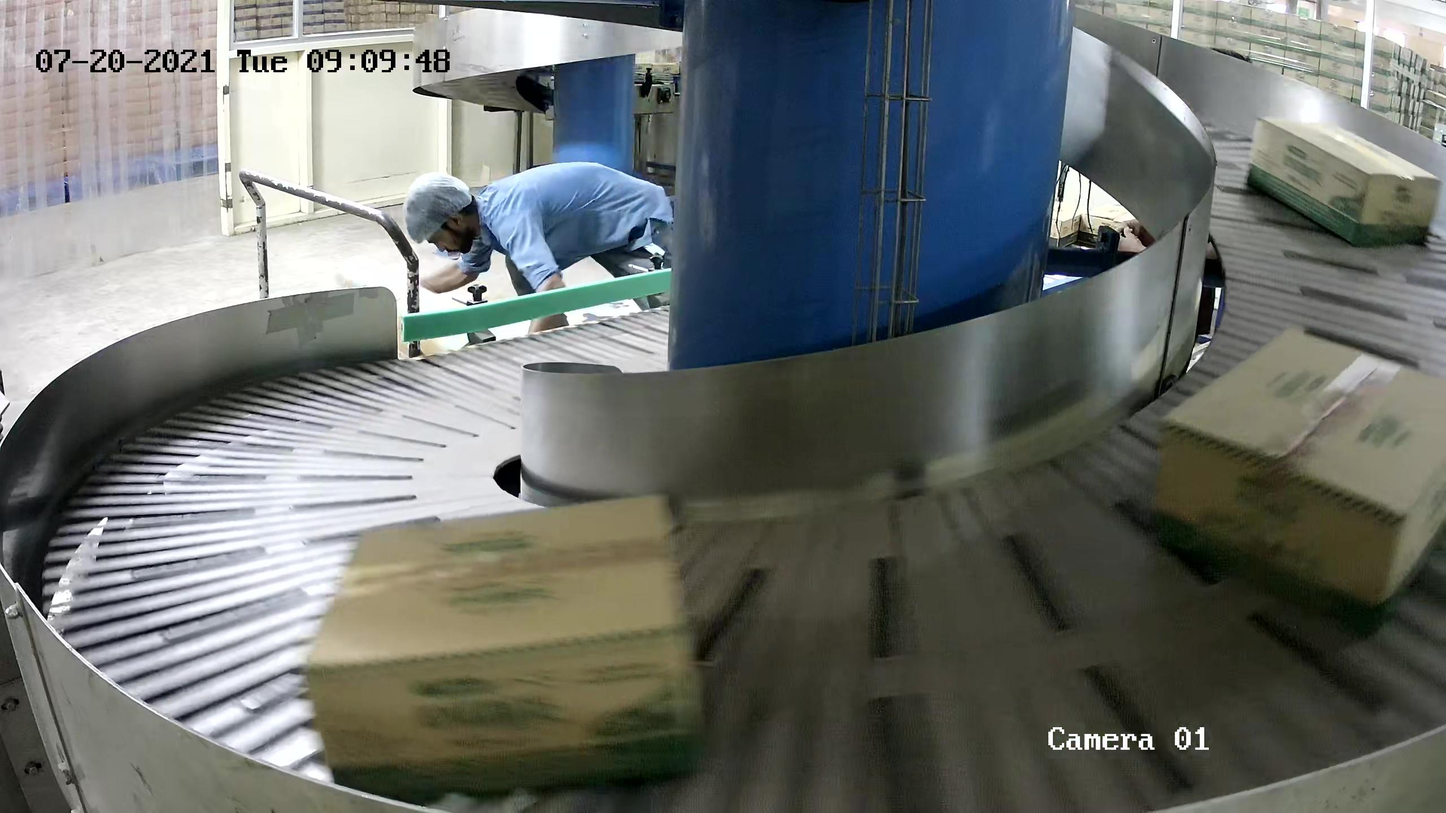Box: (296, 490, 706, 813), (1133, 322, 1446, 636), (1245, 110, 1446, 251)
